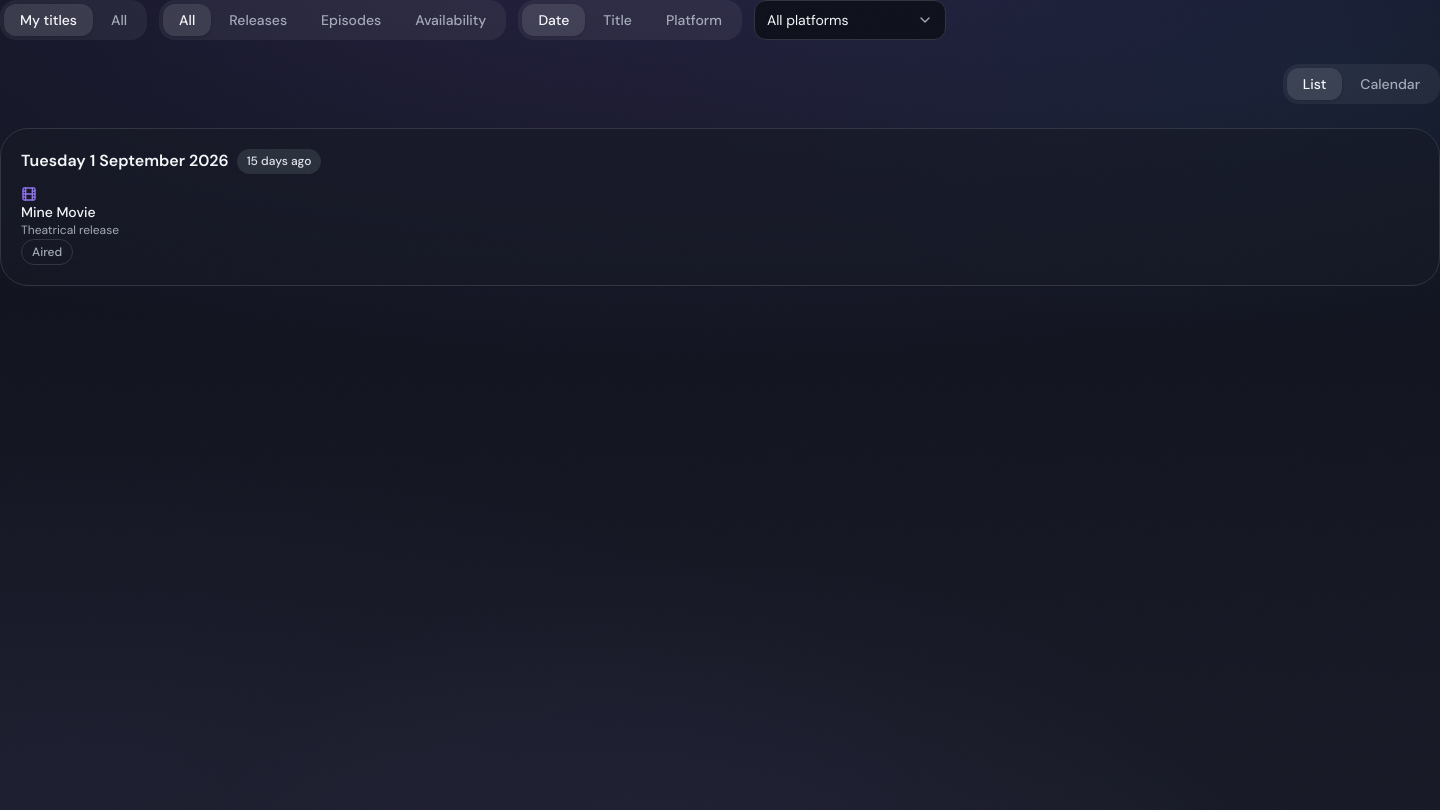
Scenario: TrackingList › switches the dated results to a month calendar view
Click the 1st button "All" at (119, 20), box [95, 4, 143, 36]
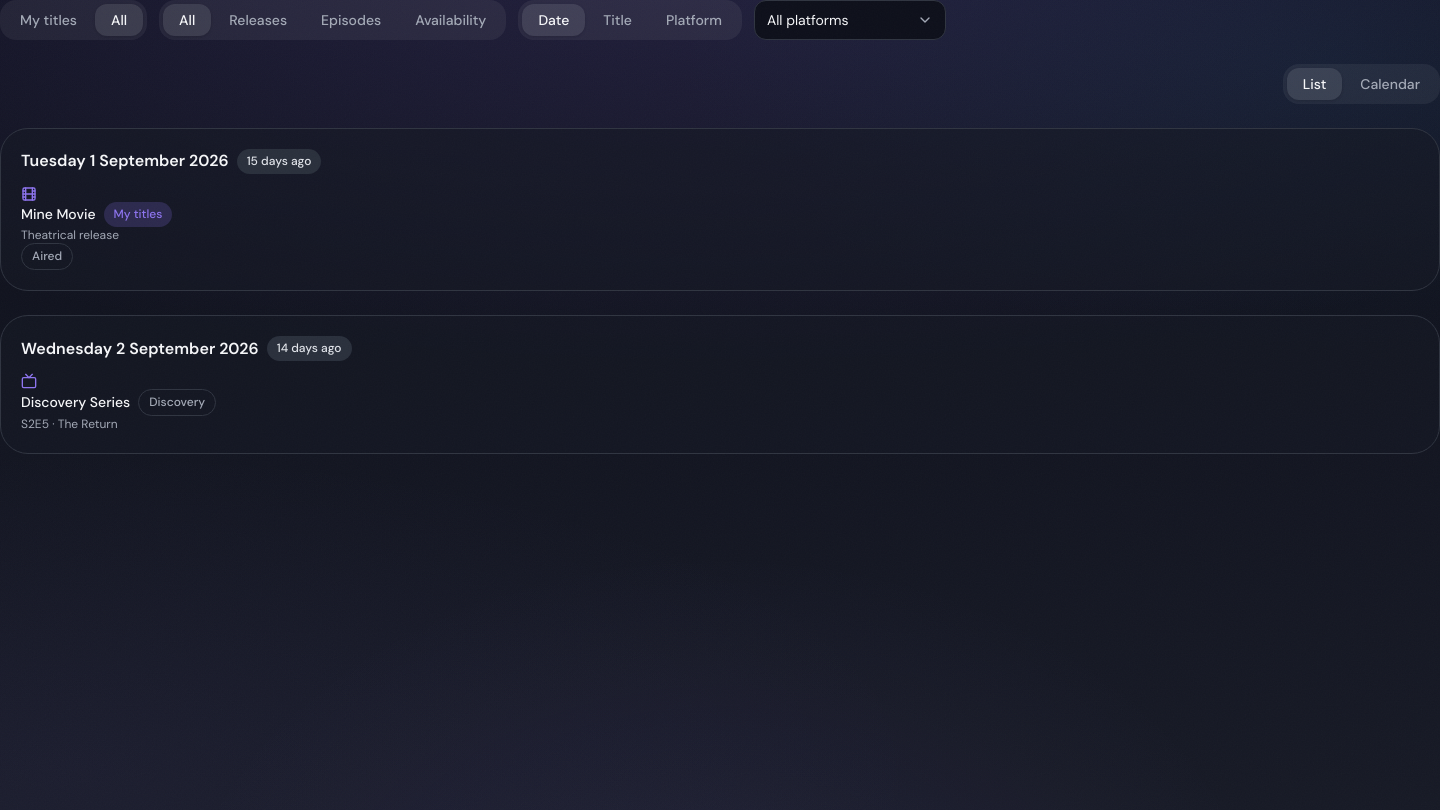
Check: the heading "Tuesday 1 September 2026" is shown, box [21, 149, 229, 173]
Click the tab "Calendar" at (1390, 84), box [1344, 68, 1436, 100]
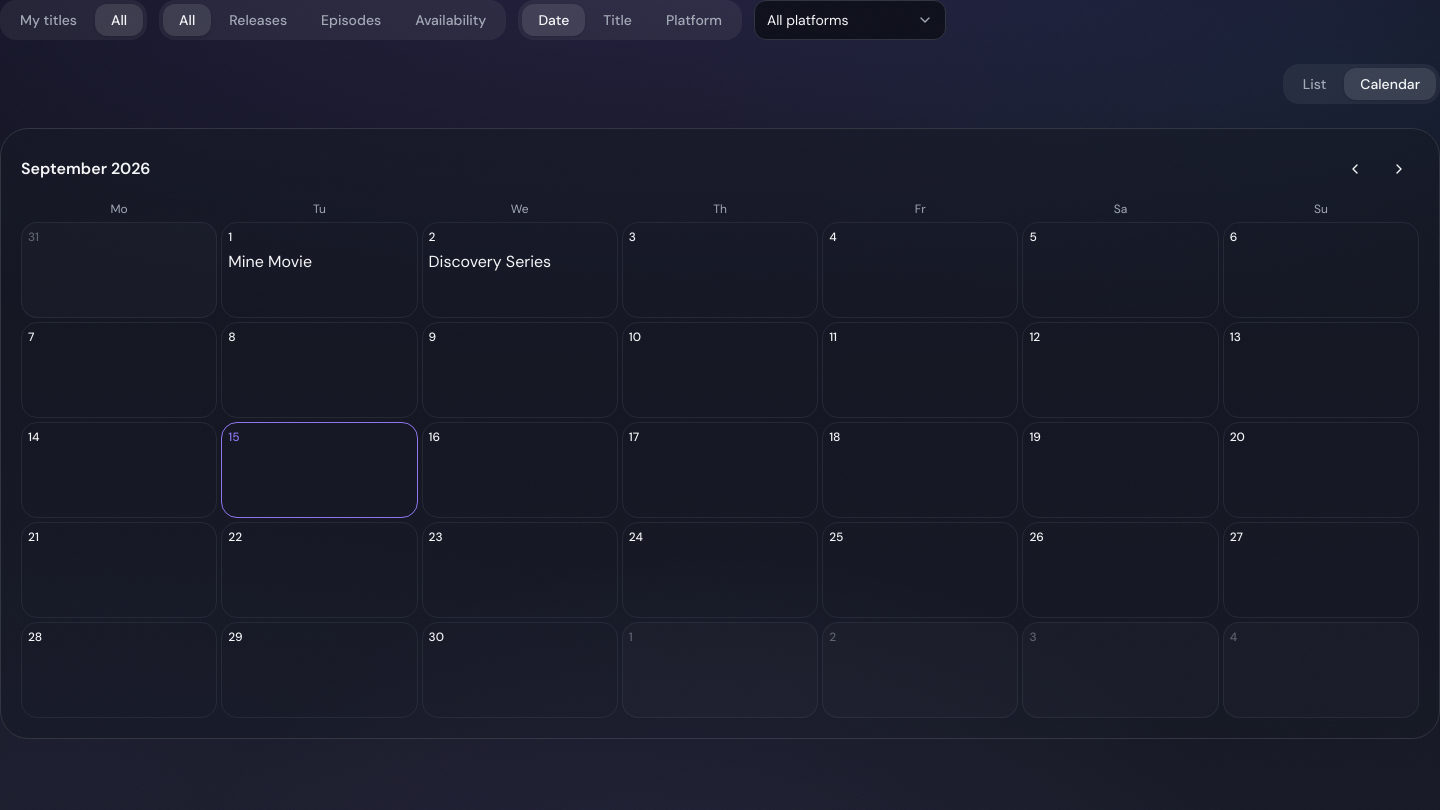
Check: the link "Mine Movie" is shown, box [228, 251, 312, 272]
Check: the link "Discovery Series" is shown, box [429, 251, 551, 272]
Check: the heading "1 September 2026" is gone
